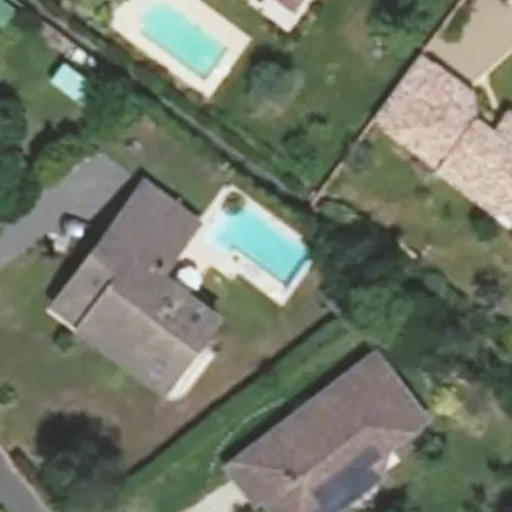pool: (209, 233, 302, 250)
